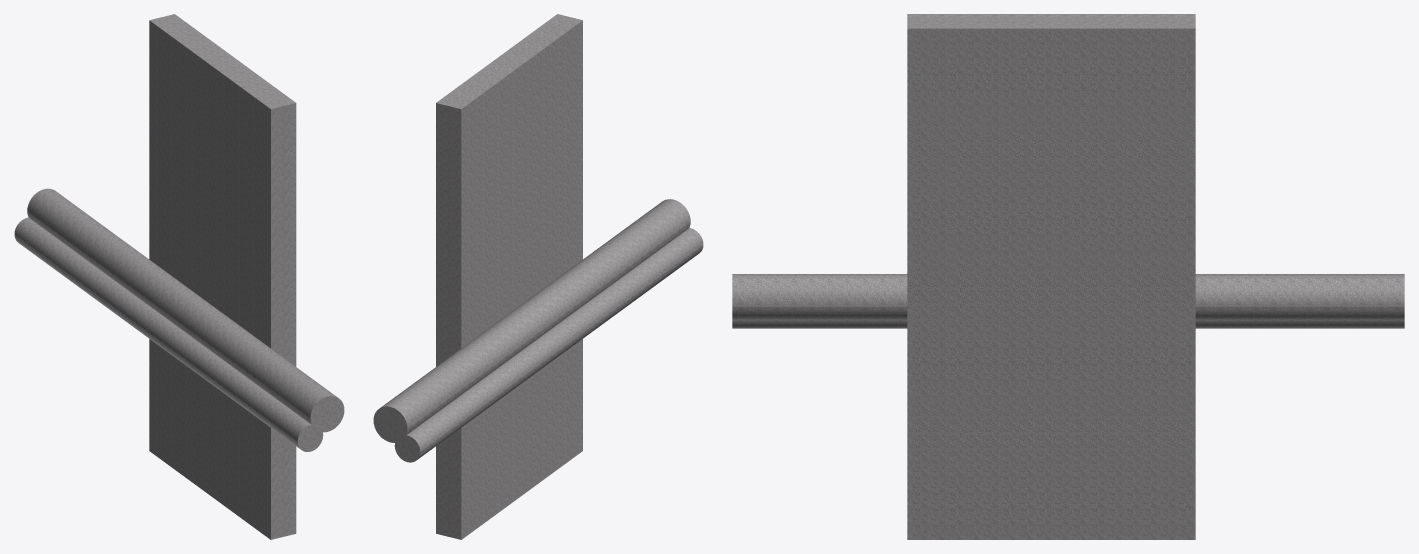
The picture shows the model from 3 angles, left to right: view 1: azimuth 30°, elevation 25°; view 2: azimuth 150°, elevation 25°; view 3: azimuth 270°, elevation 25°; orthographic projection. The views are drawn at different scales.
Visible parts, largest first — view 1: 0_1_3_3_0_0; view 2: 0_1_3_3_0_0; view 3: 0_1_3_3_0_0.
Boxes of the visible parts, <box> form: 0_1_3_3_0_0: <box>14,14,344,539</box>; 0_1_3_3_0_0: <box>373,14,703,539</box>; 0_1_3_3_0_0: <box>732,14,1404,539</box>.
Bounding box in the file's own units: 1.7 × 9.68 × 11.53.
Materials: 3 (3 with a texture image).
